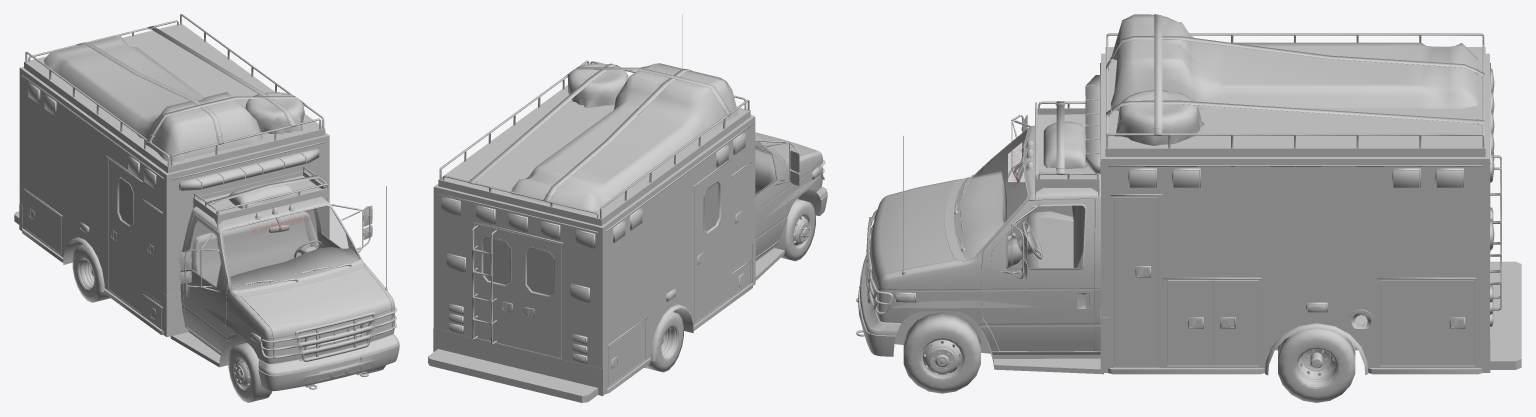
The model's file is ambulance_car.fbx.
3 views of the same model, side by side, from view 1: azimuth 30°, elevation 25°; view 2: azimuth 150°, elevation 25°; view 3: azimuth 270°, elevation 25° (orthographic). The views are drawn at different scales.
Visible parts, largest first — view 1: truck.001, cargo.001, salon.001, plastic_parts.001, door_1.001, lights_1.001, metal_part.001, tyre_1.001, tyre_2.001, door_2.001, lights.001; view 2: truck.001, cargo.001, metal_part.001, plastic_parts.001, lights_1.001, door_1.001, lights.001, tyre_1.001, tyre_2.001, salon.001; view 3: truck.001, cargo.001, door_2.001, metal_part.001, salon.001, plastic_parts.001, tyre_4.001, tyre_3.001, lights_1.001, door_1.001, lights.001.
Boxes of the visible parts, x1,y1,x2,y2 form: truck.001: (19,14,397,389); cargo.001: (44,26,319,208); salon.001: (190,209,359,290); plastic_parts.001: (28,176,399,391); door_1.001: (179,213,228,351); lights_1.001: (28,83,394,356); metal_part.001: (14,204,246,366); tyre_1.001: (228,343,271,402); tyre_2.001: (72,244,110,302); door_2.001: (313,204,372,255); lights.001: (28,82,317,344); truck.001: (433,14,825,389); cargo.001: (468,63,738,212); metal_part.001: (428,188,818,402); plastic_parts.001: (481,145,827,368); lights_1.001: (441,133,822,363); door_1.001: (755,135,799,257); lights.001: (441,132,820,363); tyre_1.001: (781,199,815,261); tyre_2.001: (644,312,683,372); salon.001: (755,149,775,194); truck.001: (856,33,1501,367); cargo.001: (1043,14,1484,174); door_2.001: (981,199,1094,351); metal_part.001: (894,252,1521,374); salon.001: (958,130,1085,267); plastic_parts.001: (858,128,1490,375); tyre_4.001: (903,312,980,393); tyre_3.001: (1278,328,1355,402); lights_1.001: (872,70,1494,325); door_1.001: (982,115,1072,267); lights.001: (894,68,1492,326).
Bounding box in the file's own units: 230 × 256 × 519.
